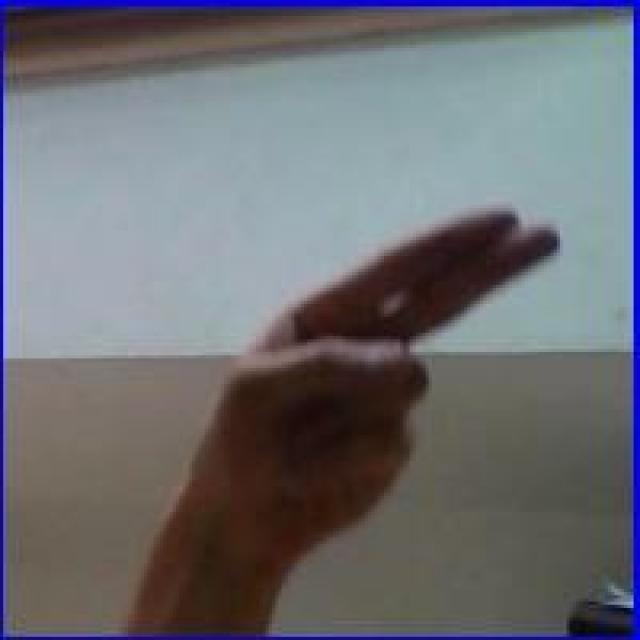H: (193, 203, 564, 565)
